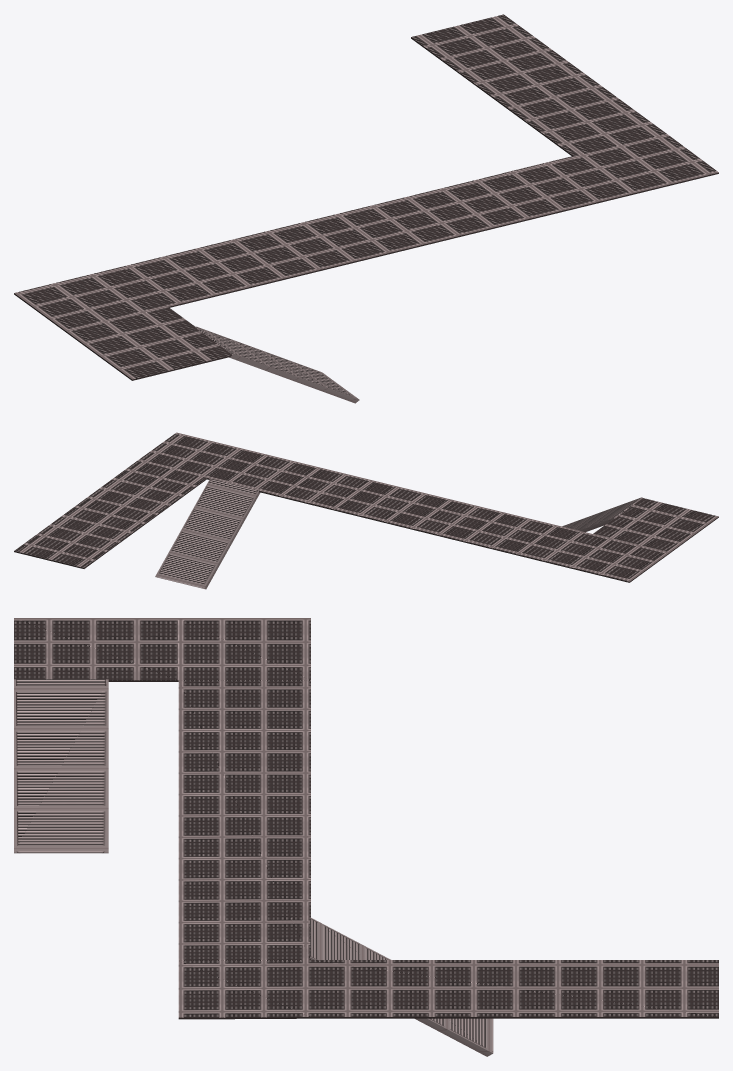
Rendered from Room3_SecondFloor.glb.
3 views of the same model, one above another, from view 1: azimuth 30°, elevation 25°; view 2: azimuth 150°, elevation 25°; view 3: azimuth 270°, elevation 25° (orthographic). The views are drawn at different scales.
Visible parts, largest first — view 1: SecondFloor.001; view 2: SecondFloor.001; view 3: SecondFloor.001.
Part boxes in pixels (x1,y1,x2,y2): SecondFloor.001: [14, 14, 718, 403]; SecondFloor.001: [14, 432, 718, 589]; SecondFloor.001: [14, 618, 718, 1056].
Bounding box in the file's own units: 50 × 5.8 × 37.27.
2 materials, 2 textured.
